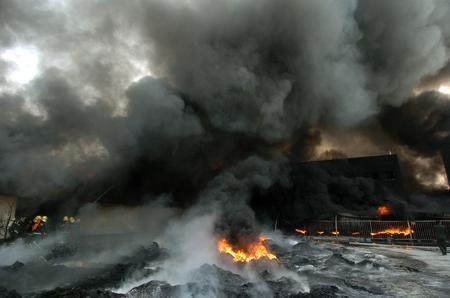fire: (217, 235, 276, 262), (369, 220, 413, 238)
